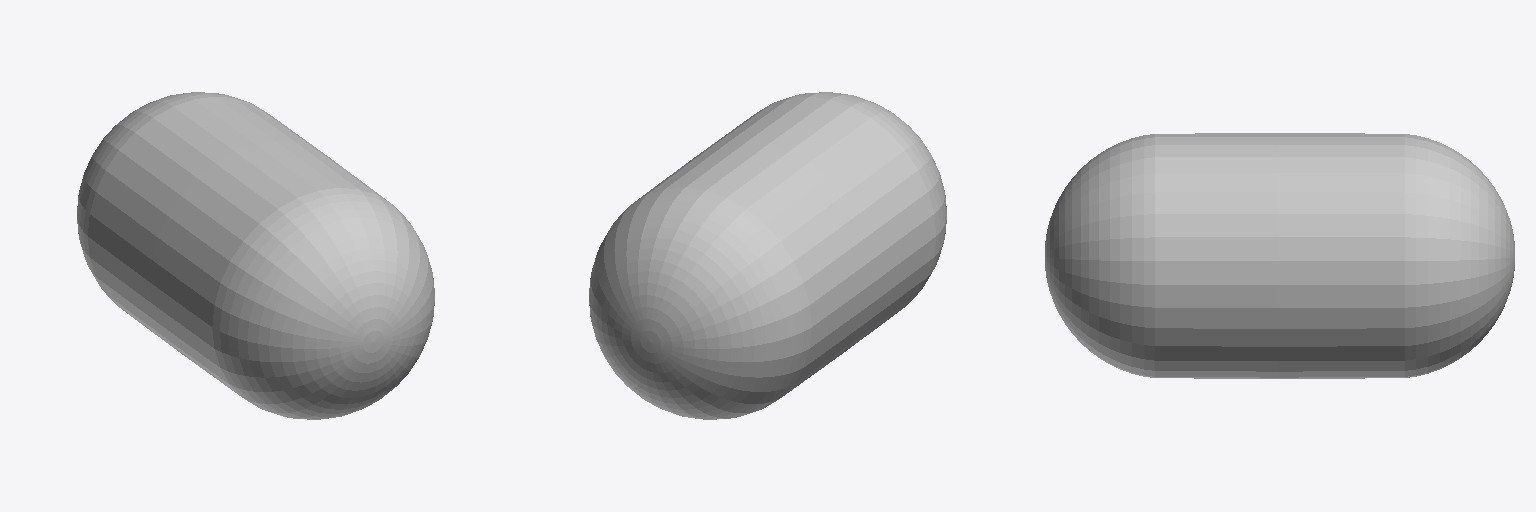
Rendered from capsuleY.obj.
3 views of the same model, side by side, from view 1: azimuth 30°, elevation 25°; view 2: azimuth 150°, elevation 25°; view 3: azimuth 270°, elevation 25° (orthographic).
Bounding box in the file's own units: 2 × 2 × 3.83.